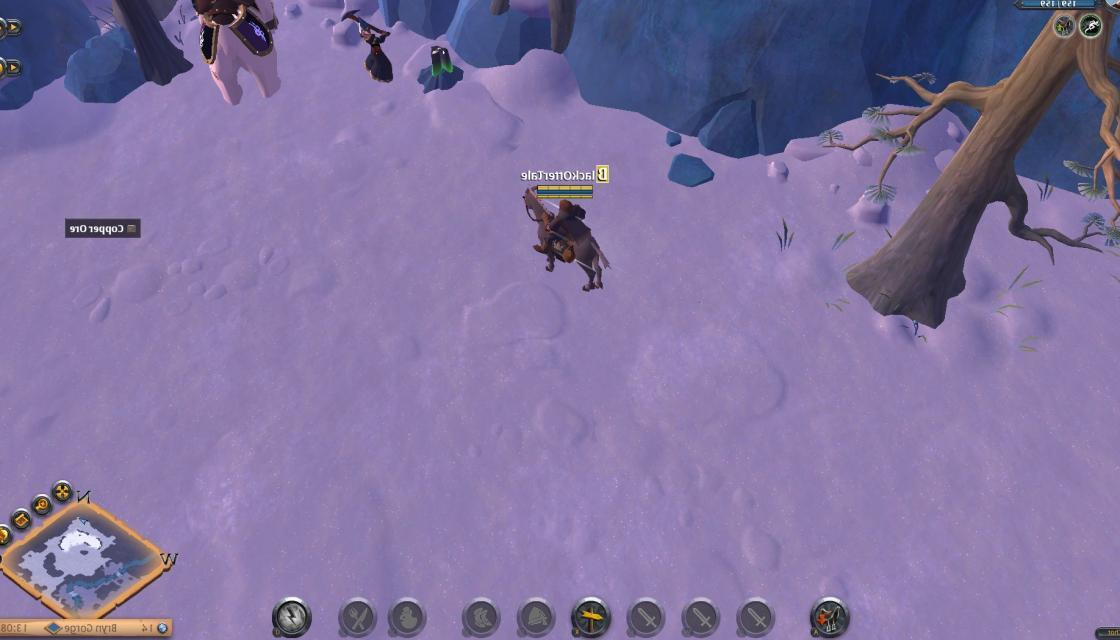tinore: (417, 42, 464, 94)
